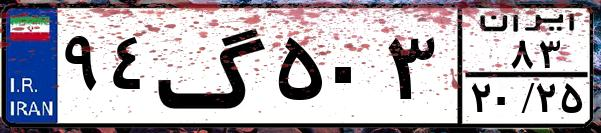0: (330, 28, 385, 110), (495, 70, 520, 125)
2: (470, 70, 495, 125), (535, 70, 560, 125)
3: (385, 28, 445, 110), (537, 27, 568, 80)
4: (110, 28, 156, 98)
5: (270, 28, 330, 110), (560, 70, 590, 125)
8: (508, 27, 537, 80)
9: (57, 26, 110, 100)
گ: (156, 12, 270, 120)
